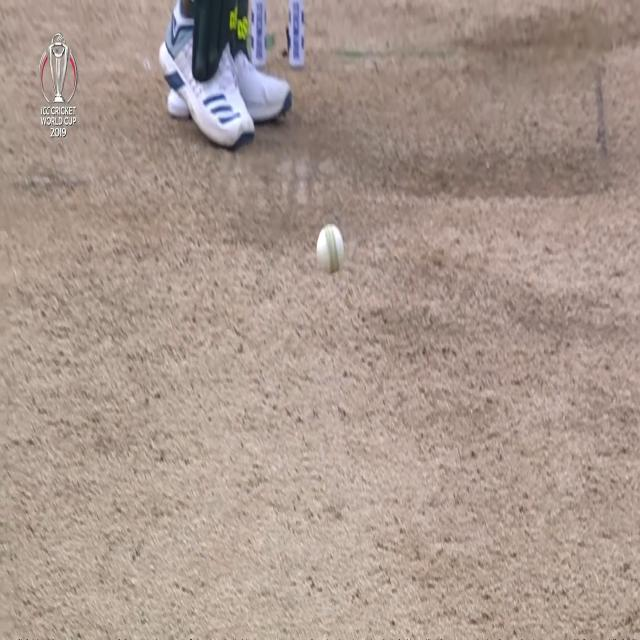Cricket ball: (315, 220, 346, 279)
